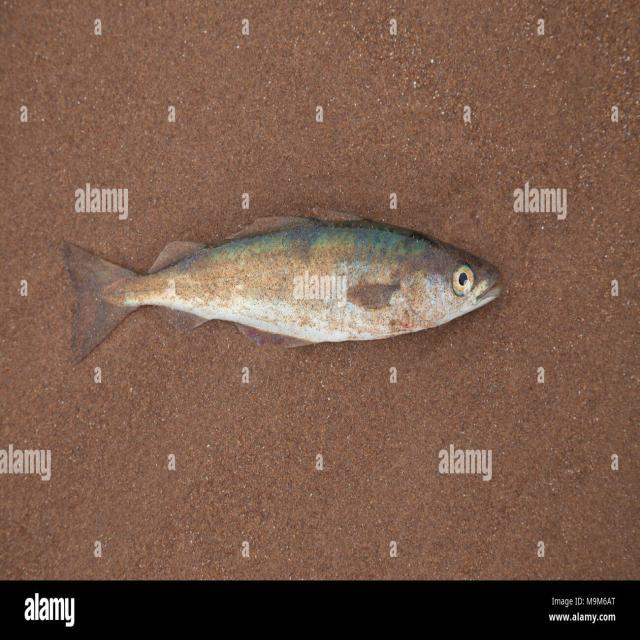EUS Disease: (67, 214, 516, 357)
